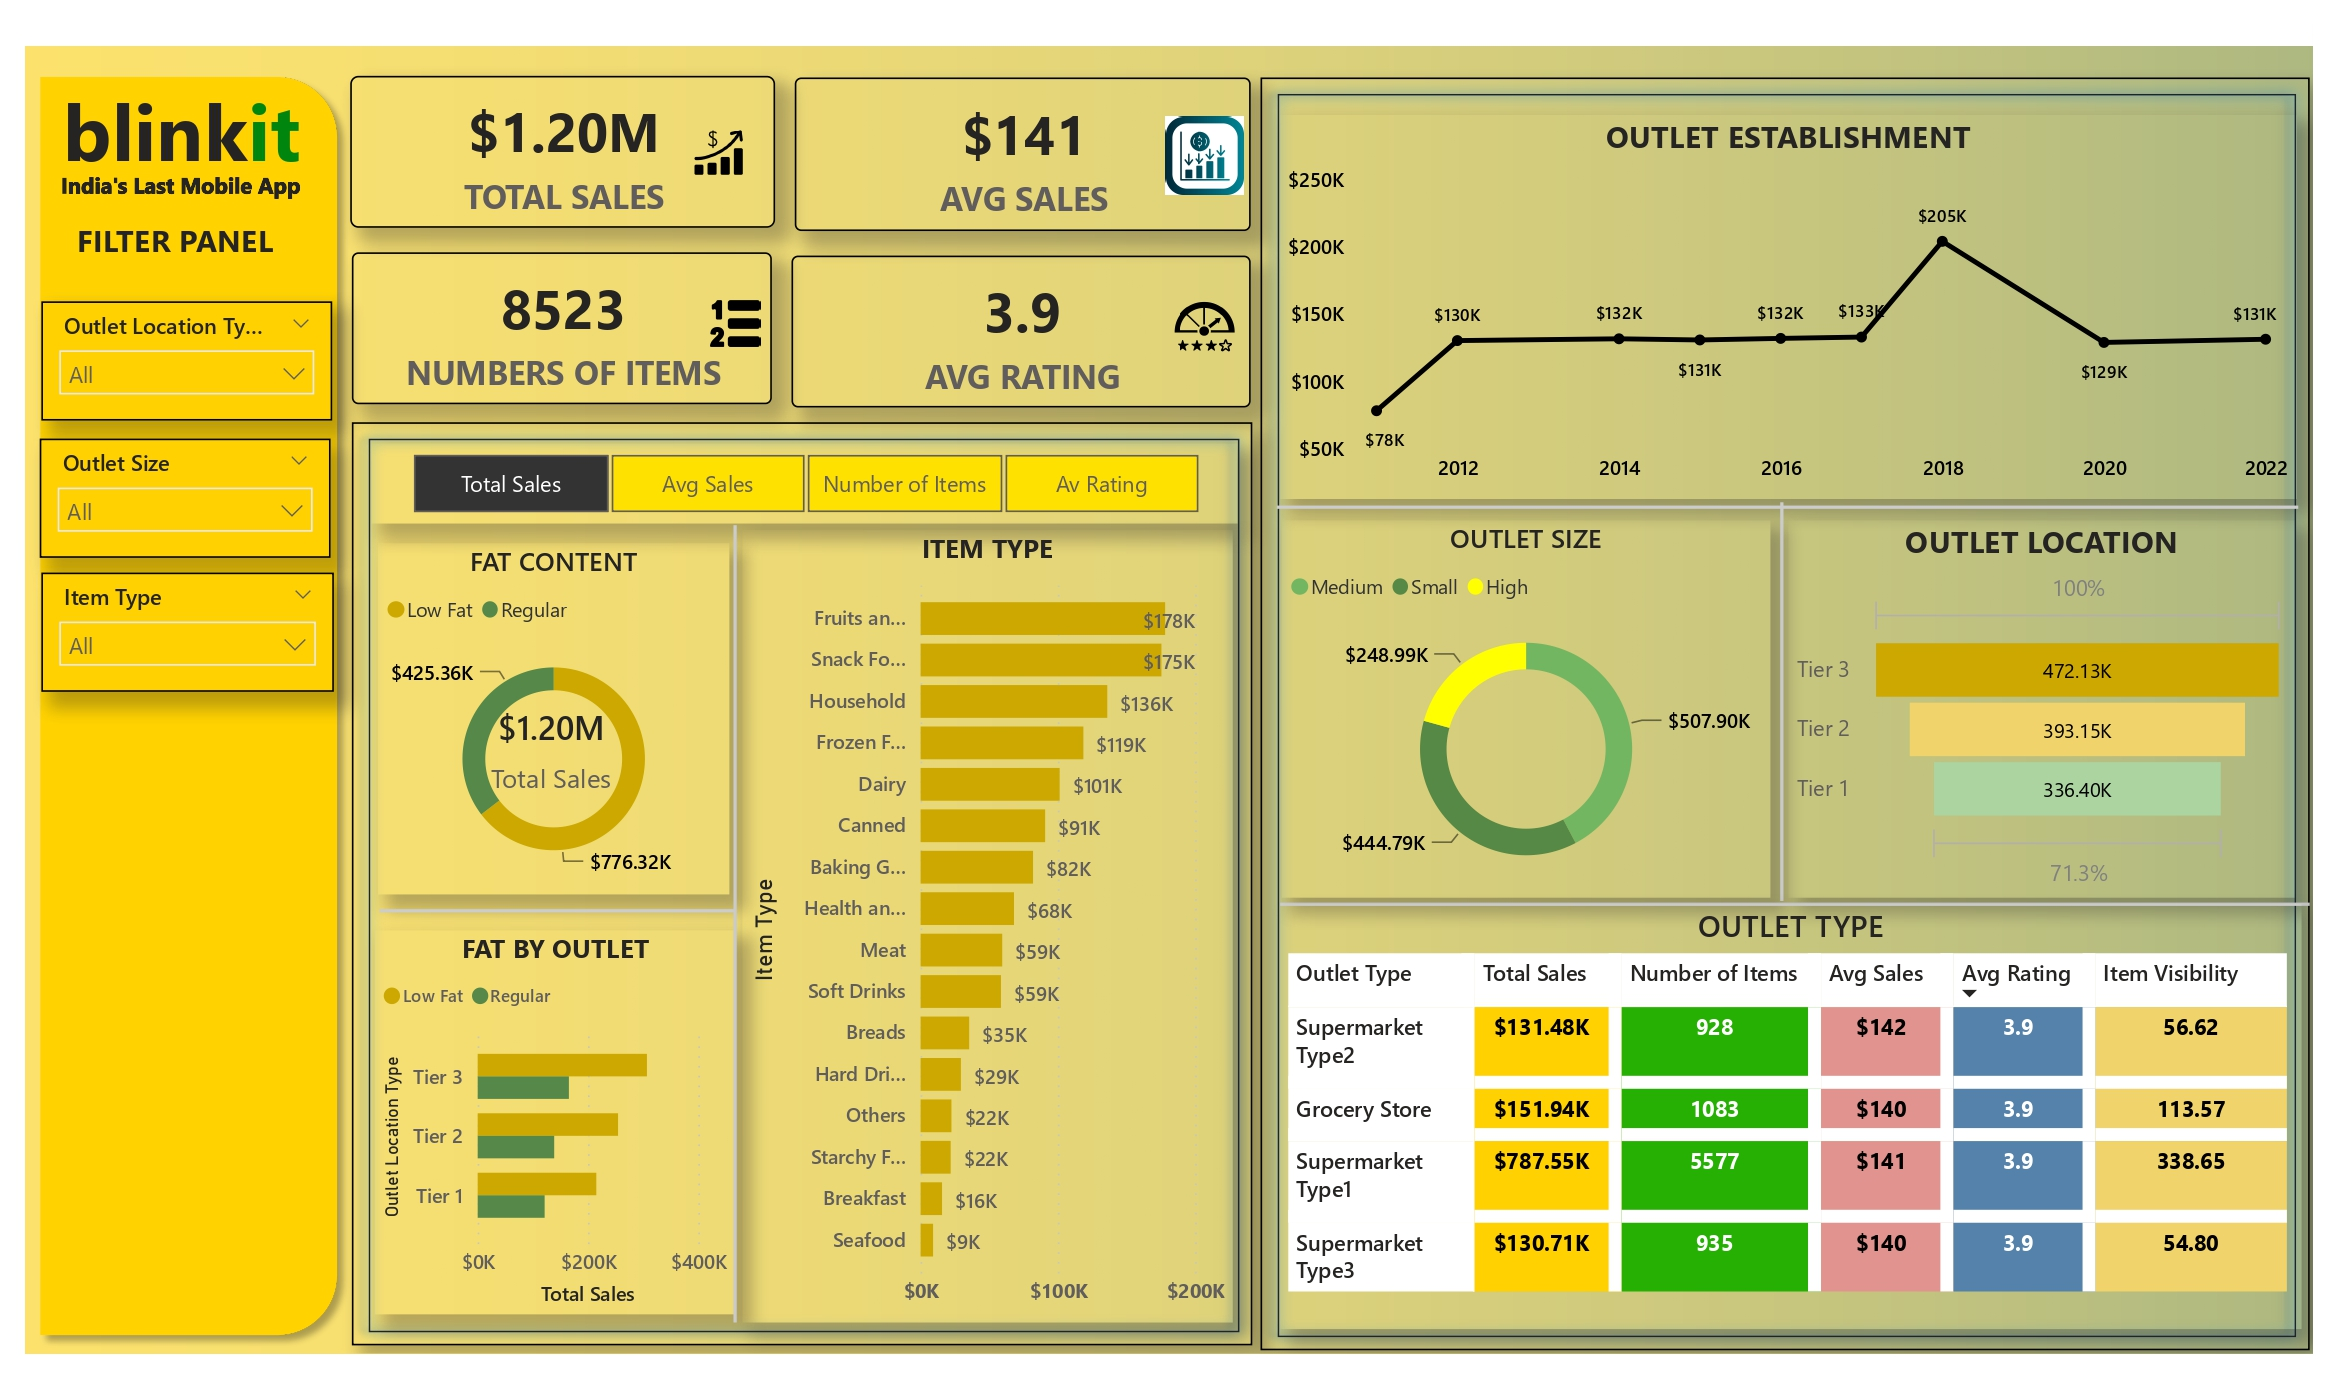

This screenshot's page, from the dashboard's own definition file:
{"tool":"powerbi","page":{"name":"Page 1","canvas":[1400,800],"ordinal":0},"visuals":[{"type":"shape","box":[0,10.2,200.4,788.1],"z":0},{"type":"textbox","box":[3.4,13,185.1,74.7],"z":1000},{"type":"textbox","box":[17,71.3,165.9,39.1],"z":2000},{"type":"card","fields":{"Values":["BlinkIT Grocery Data.Total Sales"]},"box":[199.2,17.8,259.9,93.4],"z":3000},{"type":"card","fields":{"Values":["BlinkIT Grocery Data.Number of Items"]},"box":[199.8,126,257.6,93.4],"z":4000},{"type":"card","fields":{"Values":["BlinkIT Grocery Data.Avg Sales"]},"box":[471,19,278.6,94],"z":5000},{"type":"card","fields":{"Values":["BlinkIT Grocery Data.Av Rating"]},"box":[468.7,127.7,280.8,93.4],"z":6000},{"type":"shape","box":[200.4,230.4,550.3,564.5],"z":7000},{"type":"image","box":[393.5,40.8,61.7,47.6],"z":8000},{"type":"image","box":[693,34,57.7,66.2],"z":9000},{"type":"image","box":[693.6,146.1,54.4,51],"z":10000},{"type":"image","box":[413.9,148.9,40.8,40.8],"z":11000},{"type":"donutChart","title":"FAT CONTENT","fields":{"Y":["BlinkIT Grocery Data.Total Sales"],"Category":["BlinkIT Grocery Data.Item Fat Content"]},"box":[215.7,304,215.7,214.6],"z":12000},{"type":"slicer","fields":{"Values":["Metrics.Metrics"]},"box":[212.3,242.9,529.9,49.3],"z":13000},{"type":"card","fields":{"Values":["BlinkIT Grocery Data.Total Sales"]},"box":[266.1,399.2,112.1,59.4],"z":14000},{"type":"clusteredBarChart","title":"FAT BY OUTLET","fields":{"Y":["BlinkIT Grocery Data.Total Sales"],"Category":["BlinkIT Grocery Data.Outlet Location Type"],"Series":["BlinkIT Grocery Data.Item Fat Content"]},"box":[214,541.3,220.8,235],"z":15000},{"type":"shape","box":[217.4,519.7,217.4,18.7],"z":16000},{"type":"shape","box":[424.6,293.3,19.2,488],"z":17000},{"type":"barChart","title":"ITEM TYPE","fields":{"Y":["BlinkIT Grocery Data.Total Sales"],"Category":["BlinkIT Grocery Data.Item Type"]},"box":[438.8,295.5,300.1,485.8],"z":18000},{"type":"shape","box":[755.8,18.7,642,779.6],"z":19000},{"type":"lineChart","title":"OUTLET ESTABLISHMENT","fields":{"Y":["BlinkIT Grocery Data.Total Sales"],"Category":["BlinkIT Grocery Data.Outlet Establishment Year"]},"box":[767.7,42.5,622.2,234.4],"z":20000},{"type":"shape","box":[766,275.2,624.5,13.6],"z":21000},{"type":"donutChart","title":"OUTLET SIZE","fields":{"Y":["BlinkIT Grocery Data.Total Sales"],"Category":["BlinkIT Grocery Data.Outlet Size"]},"box":[768.9,290.4,299.5,231],"z":22000},{"type":"shape","box":[1068.4,278.6,13.6,244.6],"z":23000},{"type":"funnel","title":"OUTLET LOCATION","fields":{"Category":["BlinkIT Grocery Data.Outlet Location Type"],"Y":["Sum(BlinkIT Grocery Data.Sales)"]},"box":[1078.6,290.4,310.3,231],"z":24000},{"type":"shape","box":[768.3,518,629.6,13.6],"z":25000},{"type":"pivotTable","title":"OUTLET TYPE","fields":{"Rows":["BlinkIT Grocery Data.Outlet Type"],"Values":["BlinkIT Grocery Data.Total Sales","BlinkIT Grocery Data.Number of Items","BlinkIT Grocery Data.Avg Sales","BlinkIT Grocery Data.Avg Rating","Sum(BlinkIT Grocery Data.Item Visibility)"]},"box":[767.7,524.8,625.1,259.9],"z":26000},{"type":"slicer","fields":{"Values":["BlinkIT Grocery Data.Outlet Location Type"]},"box":[9.7,155.8,178.3,73],"z":27000},{"type":"slicer","fields":{"Values":["BlinkIT Grocery Data.Outlet Size"]},"box":[8.5,240.2,178.3,73],"z":28000},{"type":"slicer","fields":{"Values":["BlinkIT Grocery Data.Item Type"]},"box":[10.2,322.3,178.3,73],"z":29000},{"type":"textbox","box":[26.6,101.3,139.3,37.4],"z":29001}]}

Visuals, with their boxes in screenshot pixels (x1, y1, x2, y2):
shape: 12/53/342/1351
textbox: 18/58/323/181
textbox: 40/154/313/218
card - BlinkIT Grocery Data.Total Sales: 340/66/768/220
card - BlinkIT Grocery Data.Number of Items: 341/244/765/398
card - BlinkIT Grocery Data.Avg Sales: 788/68/1247/223
card - BlinkIT Grocery Data.Av Rating: 784/247/1247/401
shape: 342/416/1249/1346
image: 660/104/762/182
image: 1153/93/1249/202
image: 1154/277/1244/361
image: 694/282/761/349
"FAT CONTENT" donutChart: 367/537/723/891
slicer - Metrics.Metrics: 362/437/1235/518
card - BlinkIT Grocery Data.Total Sales: 450/694/635/792
"FAT BY OUTLET" clusteredBarChart: 365/928/728/1315
shape: 370/892/728/923
shape: 711/520/743/1323
"ITEM TYPE" barChart: 735/523/1229/1323
shape: 1257/67/2314/1351
"OUTLET ESTABLISHMENT" lineChart: 1277/107/2301/493
shape: 1274/490/2302/512
"OUTLET SIZE" donutChart: 1278/515/1772/895
shape: 1772/495/1794/898
"OUTLET LOCATION" funnel: 1789/515/2300/895
shape: 1278/890/2314/912
"OUTLET TYPE" pivotTable: 1277/901/2306/1329
slicer - BlinkIT Grocery Data.Outlet Location Type: 28/293/322/413
slicer - BlinkIT Grocery Data.Outlet Size: 26/432/320/552
slicer - BlinkIT Grocery Data.Item Type: 29/567/323/688
textbox: 56/203/285/265
